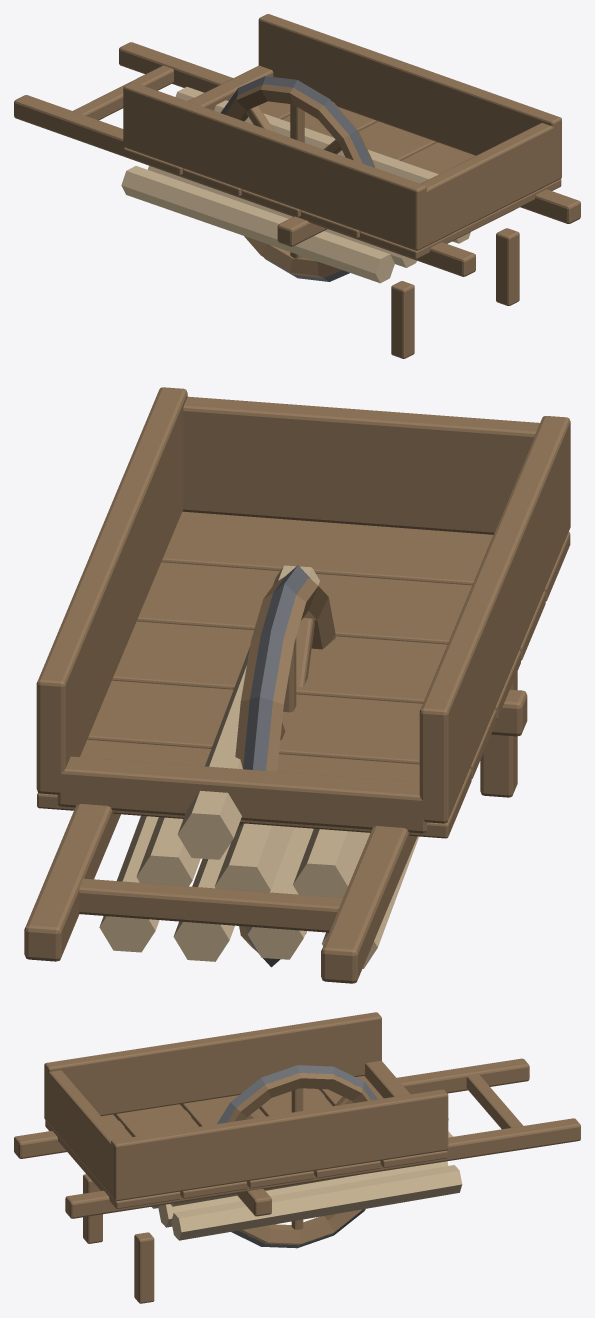
Rendered from hand_cart.glb.
3 views of the same model, one above another, from view 1: azimuth 30°, elevation 25°; view 2: azimuth 150°, elevation 25°; view 3: azimuth 270°, elevation 25° (orthographic). The views are drawn at different scales.
Visible parts, largest first — view 1: 204-hand-cart/0, 204-hand-cart/5, 204-hand-cart/wheel-right/oak, 204-hand-cart/wheel-right/iron; view 2: 204-hand-cart/0, 204-hand-cart/5, 204-hand-cart/wheel-right/oak, 204-hand-cart/wheel-right/iron, 204-hand-cart/wheel-left/oak, 204-hand-cart/wheel-left/iron; view 3: 204-hand-cart/0, 204-hand-cart/5, 204-hand-cart/wheel-left/oak, 204-hand-cart/wheel-left/iron.
Boxes of the visible parts, x1,y1,x2,y2 form: 204-hand-cart/0: [14, 14, 580, 358]; 204-hand-cart/5: [121, 87, 470, 283]; 204-hand-cart/wheel-right/oak: [224, 84, 362, 277]; 204-hand-cart/wheel-right/iron: [221, 76, 374, 281]; 204-hand-cart/0: [24, 387, 570, 983]; 204-hand-cart/5: [99, 565, 418, 968]; 204-hand-cart/wheel-right/oak: [266, 578, 335, 934]; 204-hand-cart/wheel-right/iron: [252, 565, 311, 967]; 204-hand-cart/wheel-left/oak: [235, 576, 318, 951]; 204-hand-cart/wheel-left/iron: [241, 565, 297, 954]; 204-hand-cart/0: [14, 1012, 580, 1303]; 204-hand-cart/5: [151, 1118, 462, 1240]; 204-hand-cart/wheel-left/oak: [227, 1073, 371, 1245]; 204-hand-cart/wheel-left/iron: [217, 1065, 377, 1248].
Size of the model in its own units: 1.23 by 0.7124 by 2.
